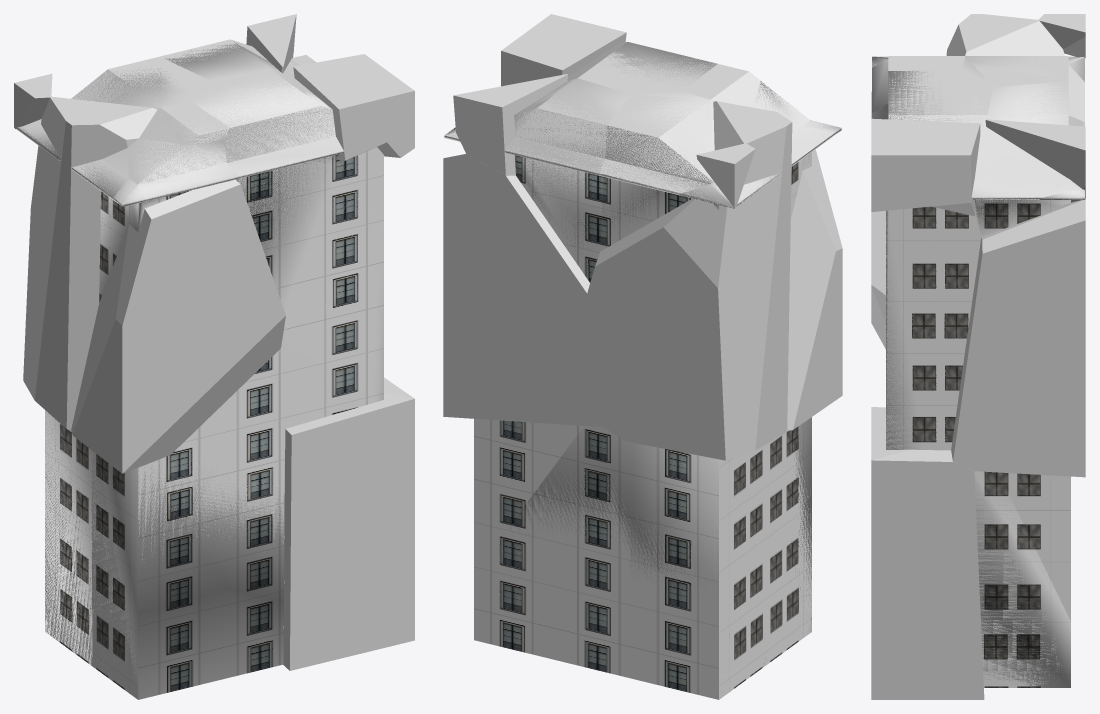
Rendered from debri4.fbx.
3 views of the same model, side by side, from view 1: azimuth 30°, elevation 25°; view 2: azimuth 150°, elevation 25°; view 3: azimuth 270°, elevation 25° (orthographic).
Parts seen in each view (by area): view 1: polySurface3, polySurface3_cell.005, polySurface3_cell.004, polySurface3_cell.020, polySurface3_cell.012, polySurface3_cell, polySurface3_cell.009, polySurface3_cell.010, polySurface3_cell.017, polySurface3_cell.011, polySurface3_cell.021, polySurface3_cell.006 (+6 smaller); view 2: polySurface3, polySurface3_cell.012, polySurface3_cell.003, polySurface3_cell.005, polySurface3_cell.018, polySurface3_cell.010, polySurface3_cell.006, polySurface3_cell.014, polySurface3_cell.017, polySurface3_cell.016, polySurface3_cell, polySurface3_cell.019 (+3 smaller); view 3: polySurface3, polySurface3_cell.003, polySurface3_cell.020, polySurface3_cell.015, polySurface3_cell.014, polySurface3_cell.017, polySurface3_cell.002, polySurface3_cell.009, polySurface3_cell.012, polySurface3_cell.016, polySurface3_cell, polySurface3_cell.018 (+5 smaller).
Boxes of the visible parts, <box> form: polySurface3: <box>18,39,383,699</box>; polySurface3_cell.005: <box>71,179,285,473</box>; polySurface3_cell.004: <box>91,435,284,699</box>; polySurface3_cell.020: <box>283,377,414,670</box>; polySurface3_cell.012: <box>23,96,156,429</box>; polySurface3_cell: <box>191,74,343,308</box>; polySurface3_cell.009: <box>281,161,383,404</box>; polySurface3_cell.010: <box>45,410,92,664</box>; polySurface3_cell.017: <box>293,54,414,162</box>; polySurface3_cell.011: <box>128,139,239,208</box>; polySurface3_cell.021: <box>72,148,129,301</box>; polySurface3_cell.006: <box>78,68,209,109</box>; polySurface3: <box>444,42,839,699</box>; polySurface3_cell.012: <box>587,101,792,460</box>; polySurface3_cell.003: <box>443,154,602,427</box>; polySurface3_cell.005: <box>787,149,842,430</box>; polySurface3_cell.018: <box>505,78,630,268</box>; polySurface3_cell.010: <box>629,443,765,664</box>; polySurface3_cell.006: <box>600,91,714,245</box>; polySurface3_cell.014: <box>494,426,633,563</box>; polySurface3_cell.017: <box>501,14,626,86</box>; polySurface3_cell.016: <box>453,74,567,175</box>; polySurface3_cell: <box>601,42,717,91</box>; polySurface3_cell.019: <box>696,143,755,208</box>; polySurface3: <box>872,56,1084,687</box>; polySurface3_cell.003: <box>951,199,1085,477</box>; polySurface3_cell.020: <box>871,407,984,699</box>; polySurface3_cell.015: <box>889,206,980,449</box>; polySurface3_cell.014: <box>974,471,1070,687</box>; polySurface3_cell.017: <box>871,118,980,216</box>; polySurface3_cell.002: <box>971,127,1080,236</box>; polySurface3_cell.009: <box>886,210,923,449</box>; polySurface3_cell.012: <box>946,14,1064,55</box>; polySurface3_cell.016: <box>985,119,1085,202</box>; polySurface3_cell: <box>872,70,991,134</box>; polySurface3_cell.018: <box>987,81,1084,126</box>.
Size of the model in its own units: 2168 by 3894 by 1391.
